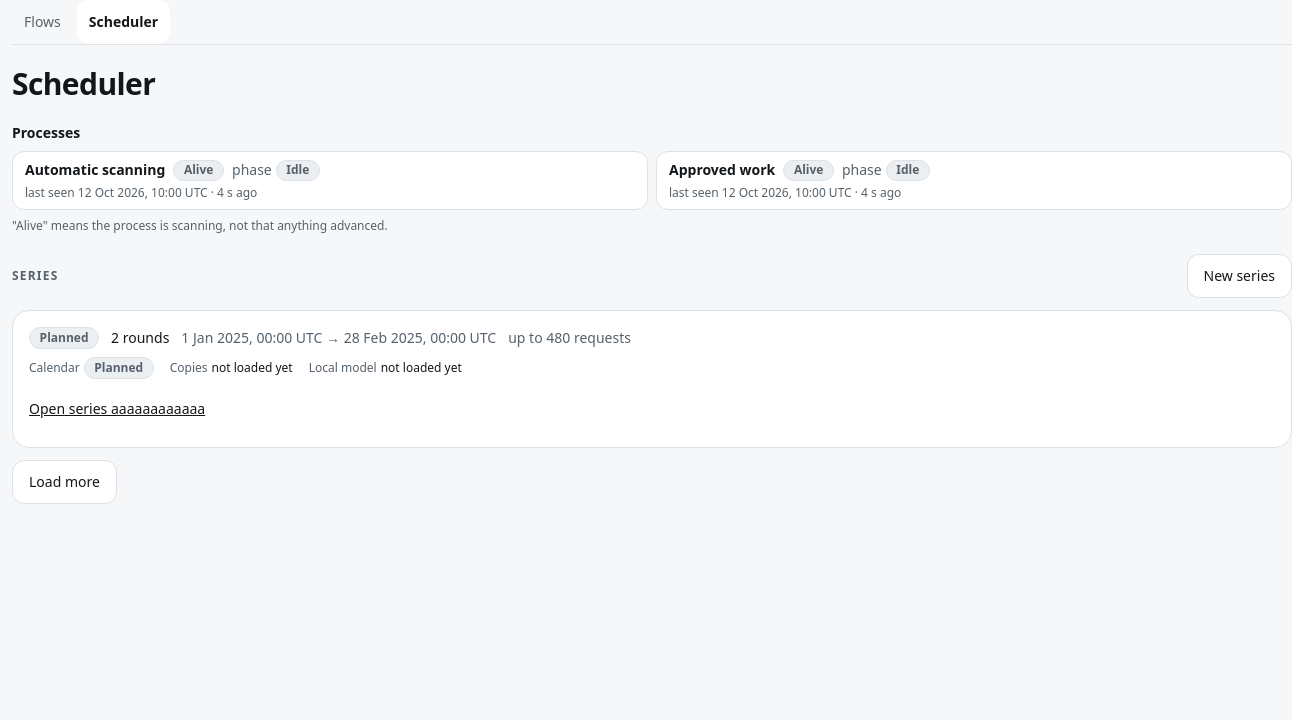
Test: Scheduler index › appends the next page
Expected: the text "not loaded yet" next to "Copies" is shown, x1=212 y1=360 x2=293 y2=376
Step 1. Click the button "Load more" → (64, 482), box x1=12 y1=460 x2=117 y2=504
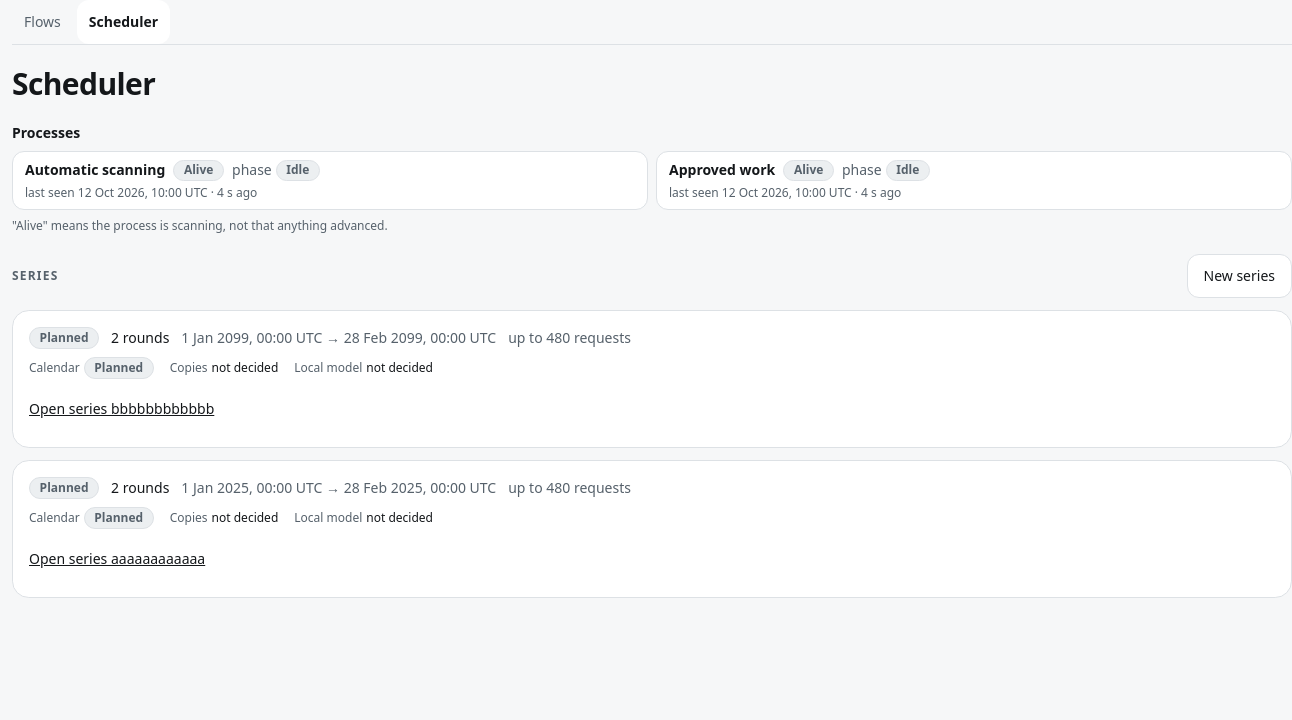
Expected: the number of list items named "Series " is 2, x1=12 y1=310 x2=1291 y2=448; x1=12 y1=460 x2=1291 y2=598
